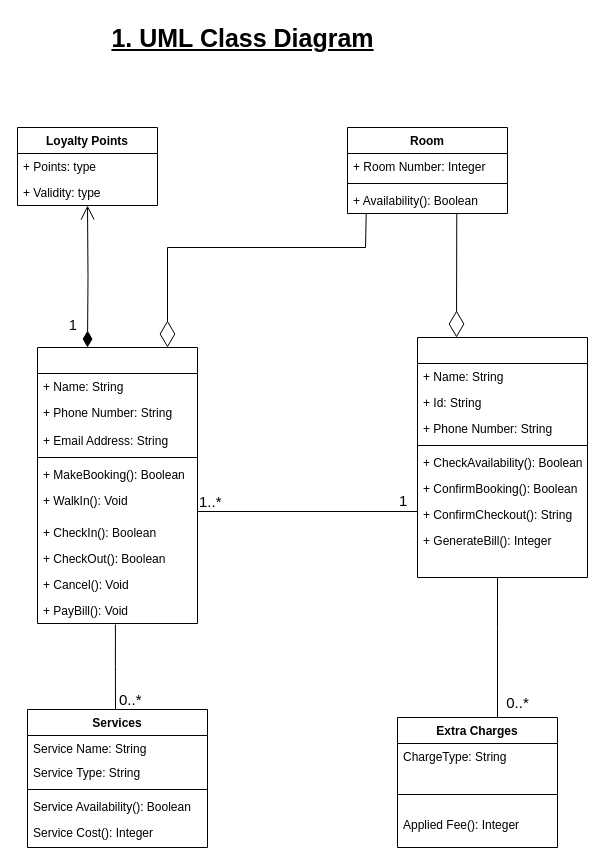
Some shapes in this 605 by 865 pixel diagram are drawn without their labels. Here are the shapes that lost their labels. From the top down, the box of each, then its label:
(416, 336, 588, 578): Reception
(36, 346, 198, 624): Customer
